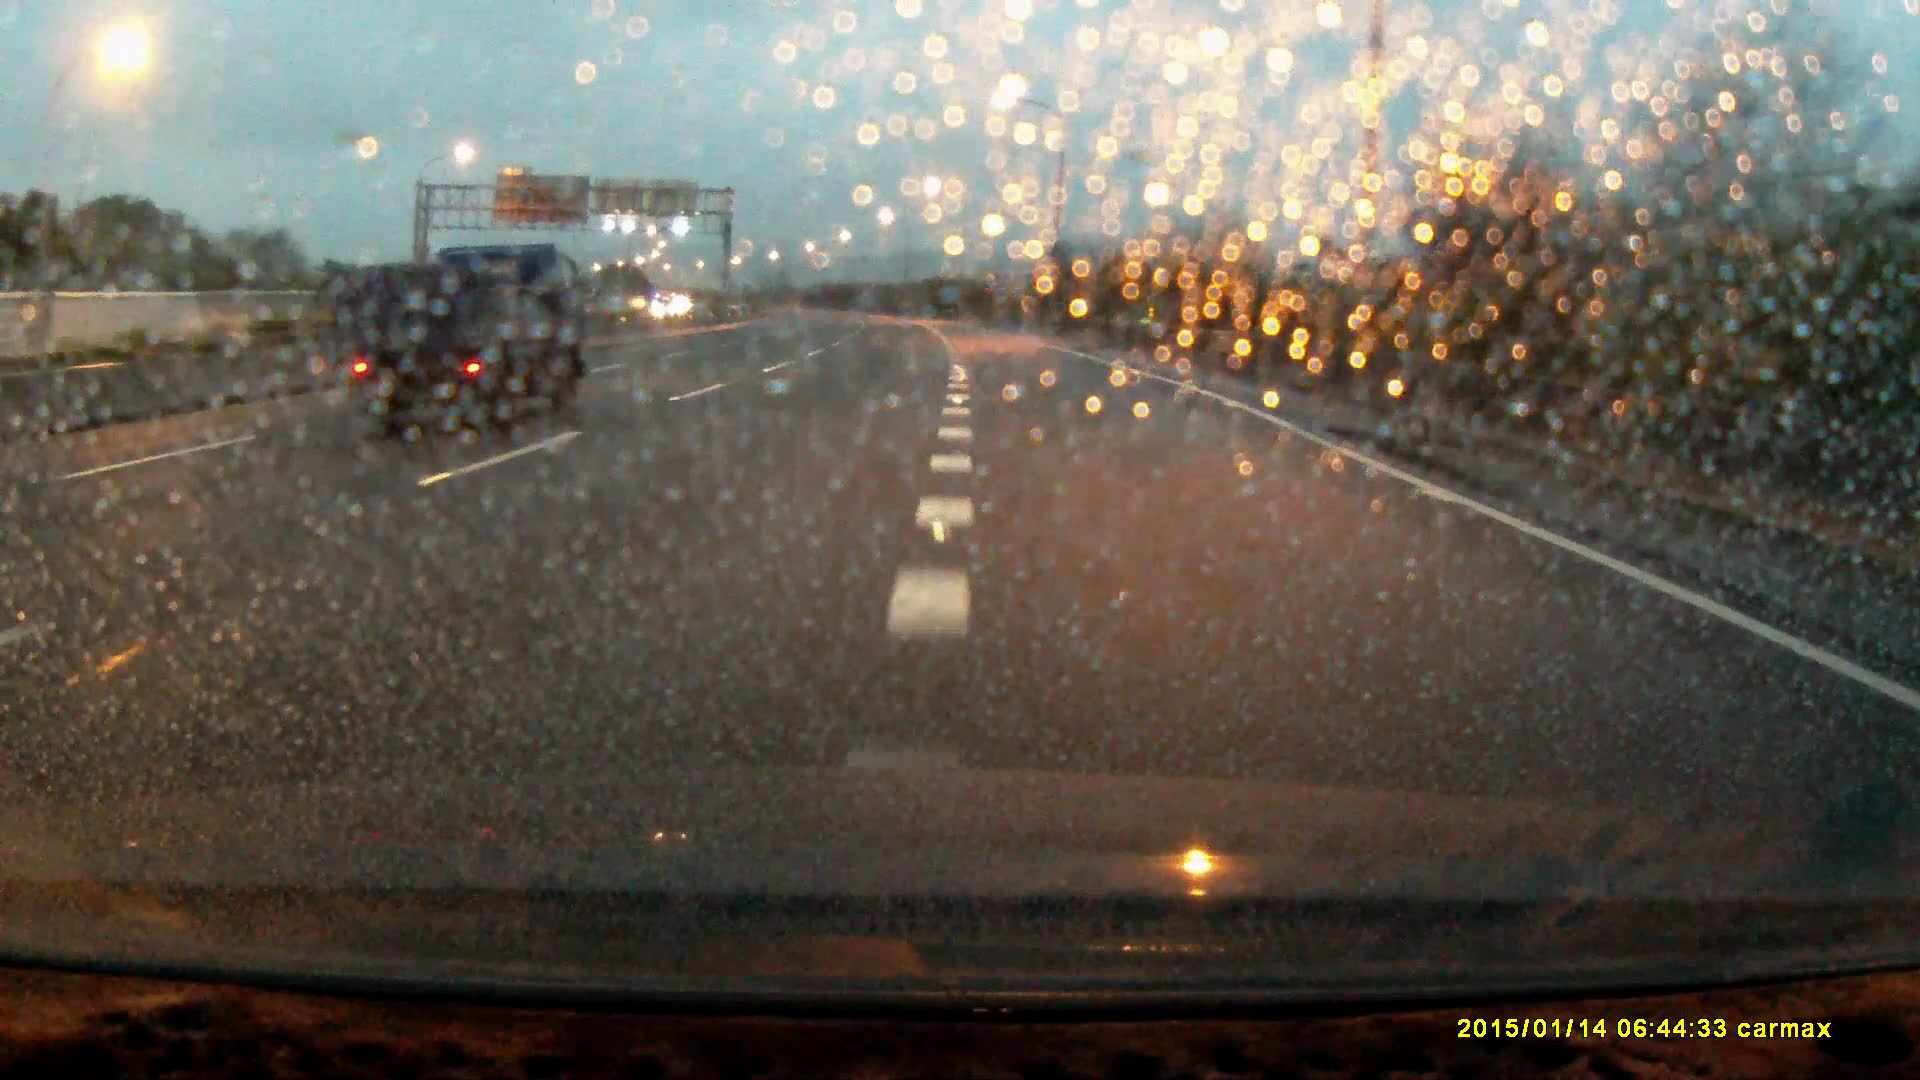vehicle: (335, 239, 576, 431)
